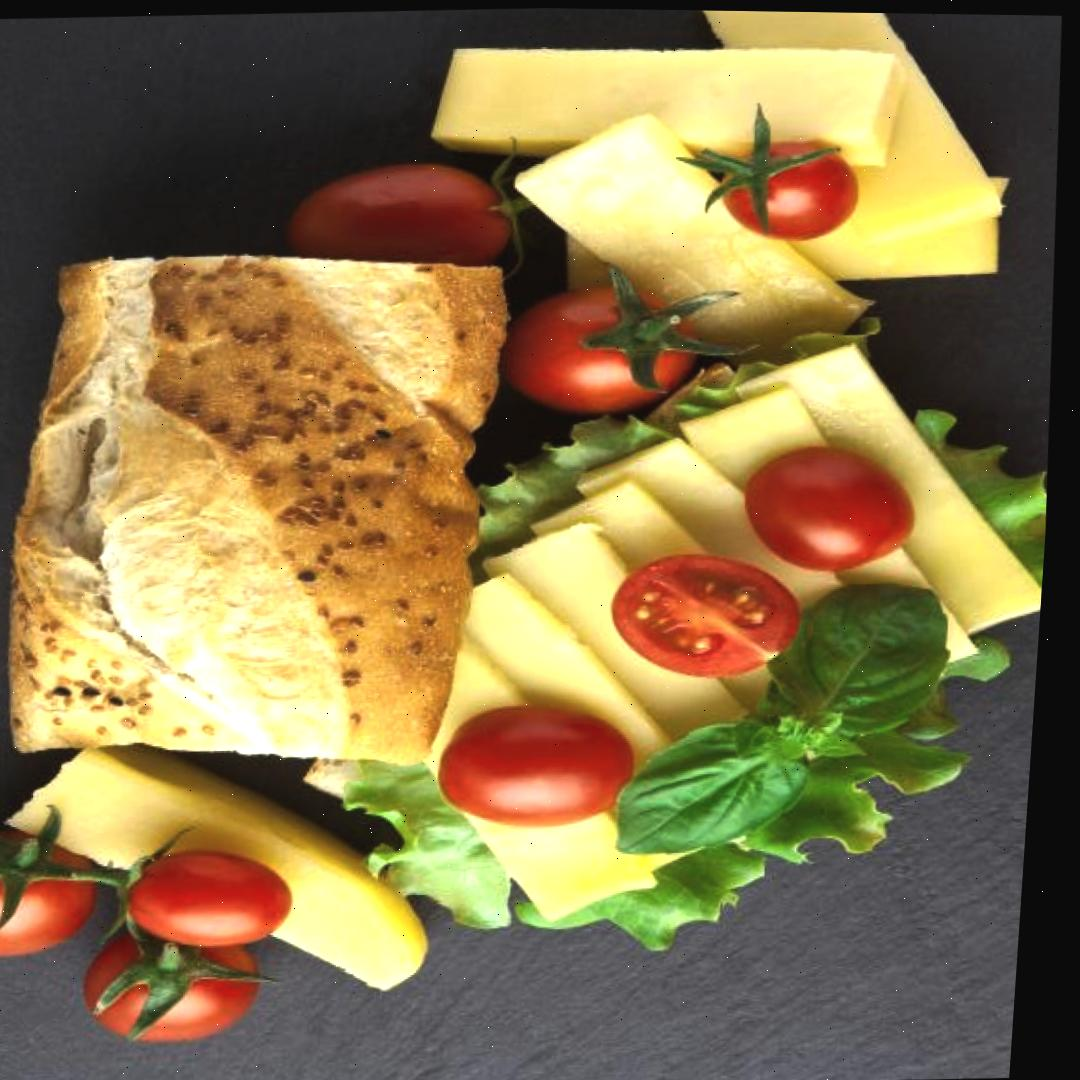matang: (286, 157, 516, 291), (496, 280, 698, 418), (603, 547, 807, 683), (434, 698, 638, 833), (737, 442, 919, 574), (80, 923, 264, 1046), (123, 845, 293, 952), (716, 135, 862, 244), (0, 825, 99, 958)
